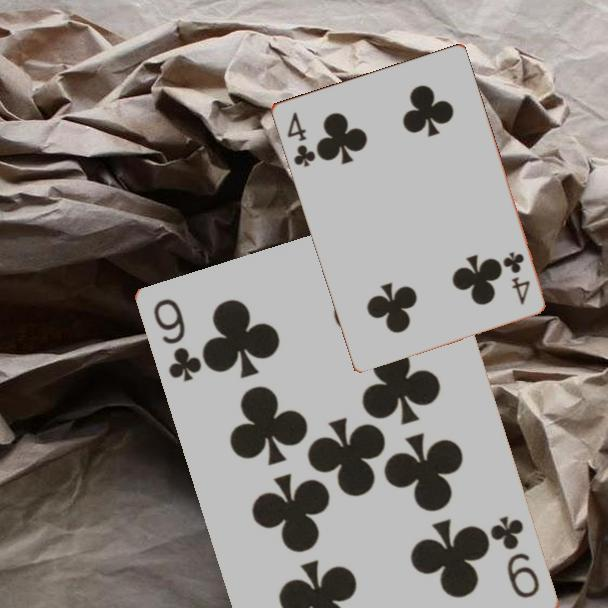c04: (283, 108, 318, 170), (500, 248, 533, 308)
c09: (150, 295, 206, 385), (487, 512, 543, 601)
